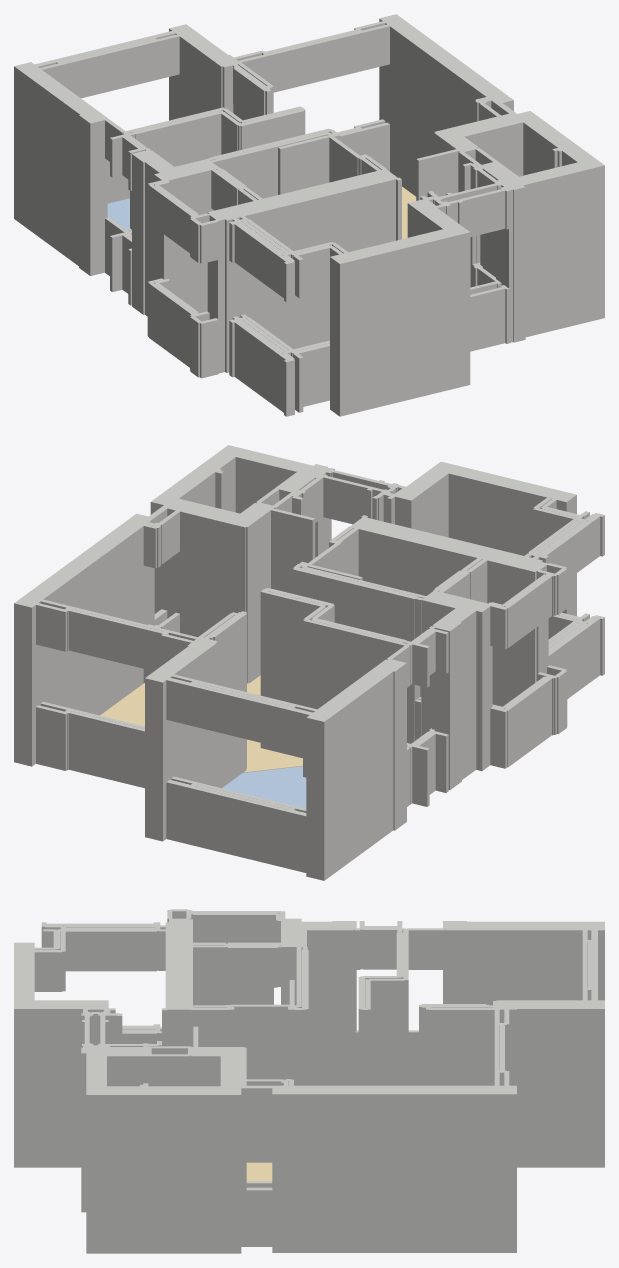
3 views of the same model, one above another, from view 1: azimuth 30°, elevation 25°; view 2: azimuth 150°, elevation 25°; view 3: azimuth 270°, elevation 25° (orthographic). The views are drawn at different scales.
Visible parts, largest first — view 1: walls, room:bedroom:4; view 2: walls, room:living:3, room:bedroom:4; view 3: walls, room:living:3.
Boxes of the visible parts, x1,y1,x2,y2 form: walls: [14, 14, 604, 416]; room:bedroom:4: [107, 198, 129, 229]; walls: [14, 445, 604, 880]; room:living:3: [100, 675, 302, 772]; room:bedroom:4: [222, 766, 306, 808]; walls: [14, 909, 604, 1253]; room:living:3: [246, 1162, 272, 1181].
Bounding box in the file's own units: 7.02 × 2.8 × 9.45.
